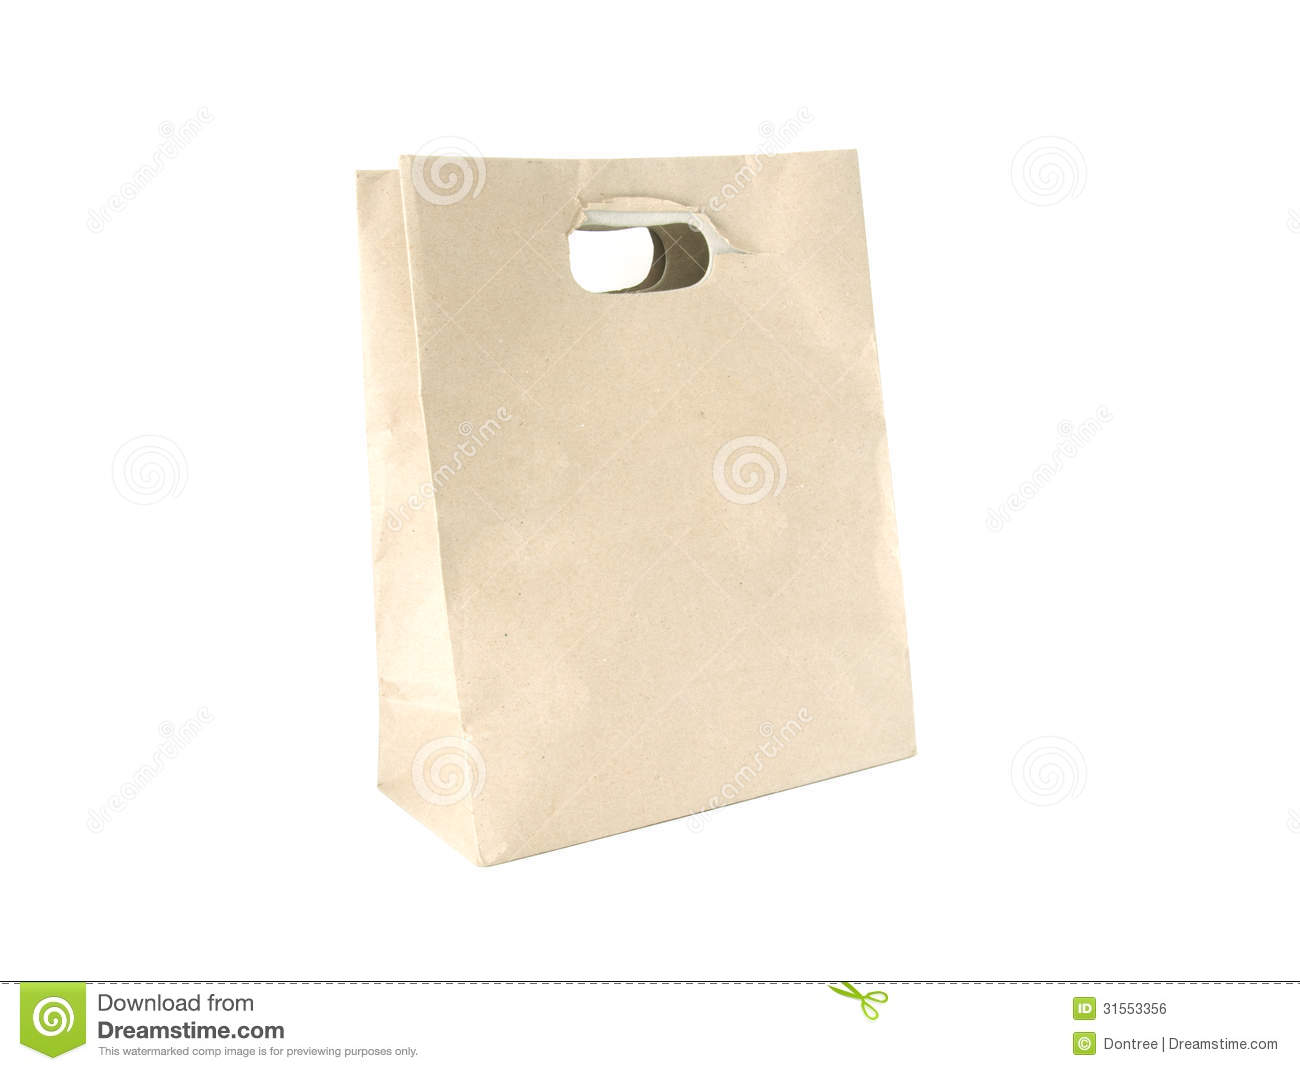flexible: (319, 128, 939, 864)
